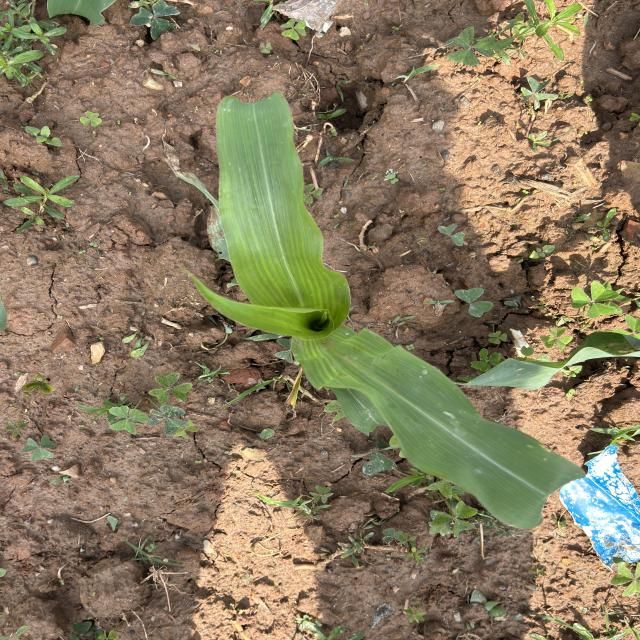maize: (220, 104, 480, 524), (492, 344, 628, 388)
weed: (0, 3, 177, 221), (39, 374, 233, 475), (443, 15, 605, 114), (494, 238, 640, 319), (109, 530, 187, 626), (234, 7, 320, 39)
